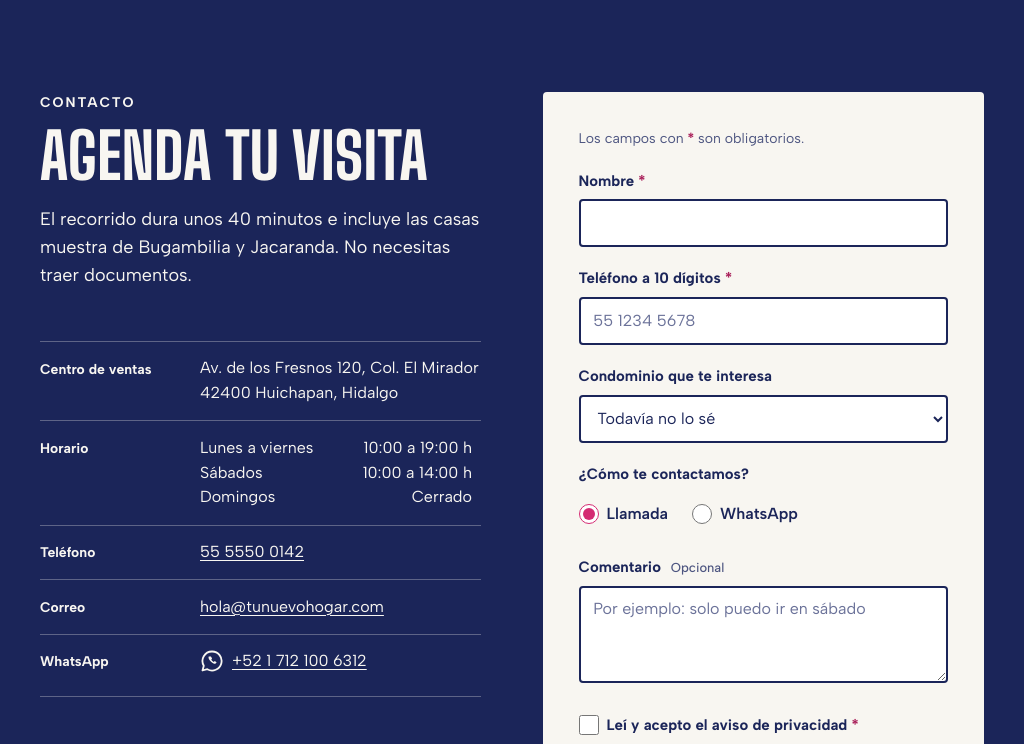
it: Contact: validation › requires at least three letters in the name
The image size is (1024, 744).
Click the checkbox labelled "Leí y acepto el aviso de privacidad *".
click(588, 726)  # box [578, 716, 598, 736]
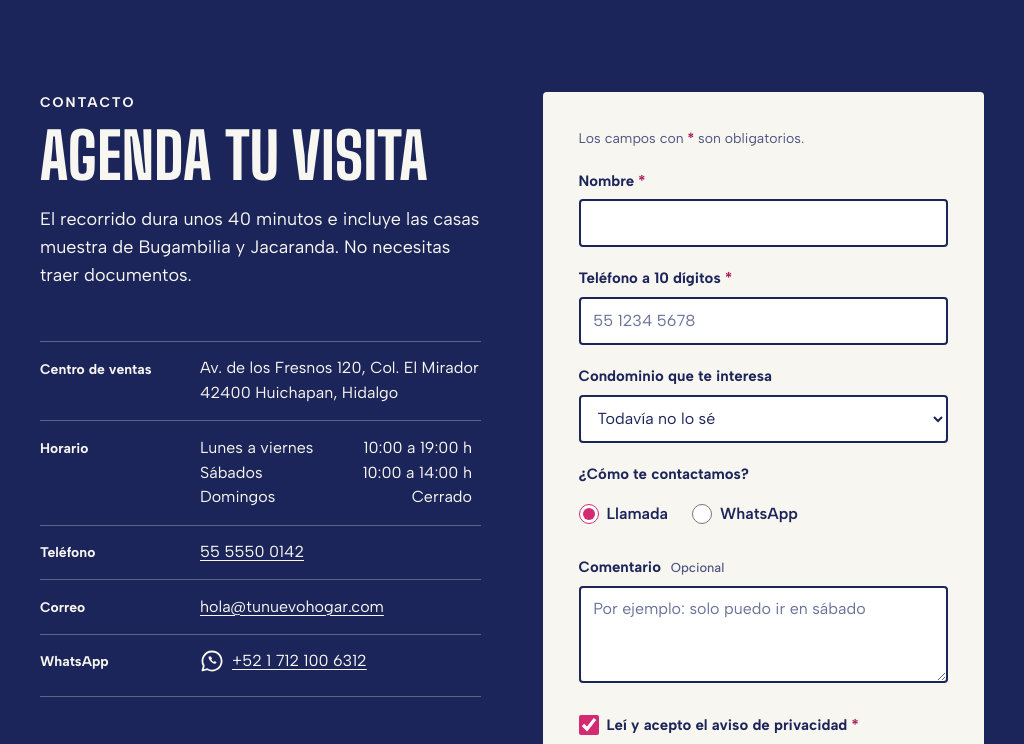
Type " Al " into the field labelled "Nombre *".
click(763, 223); type(" Al ")  # box [578, 199, 948, 247]
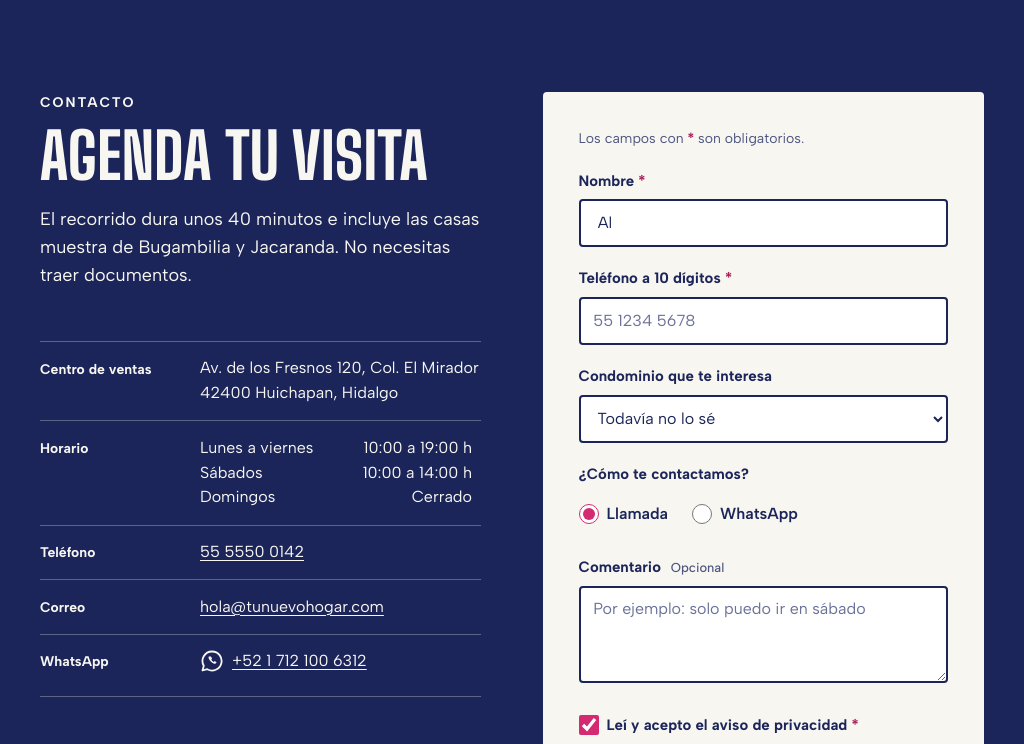
Leave the field labelled "Nombre *", box [578, 199, 948, 247]
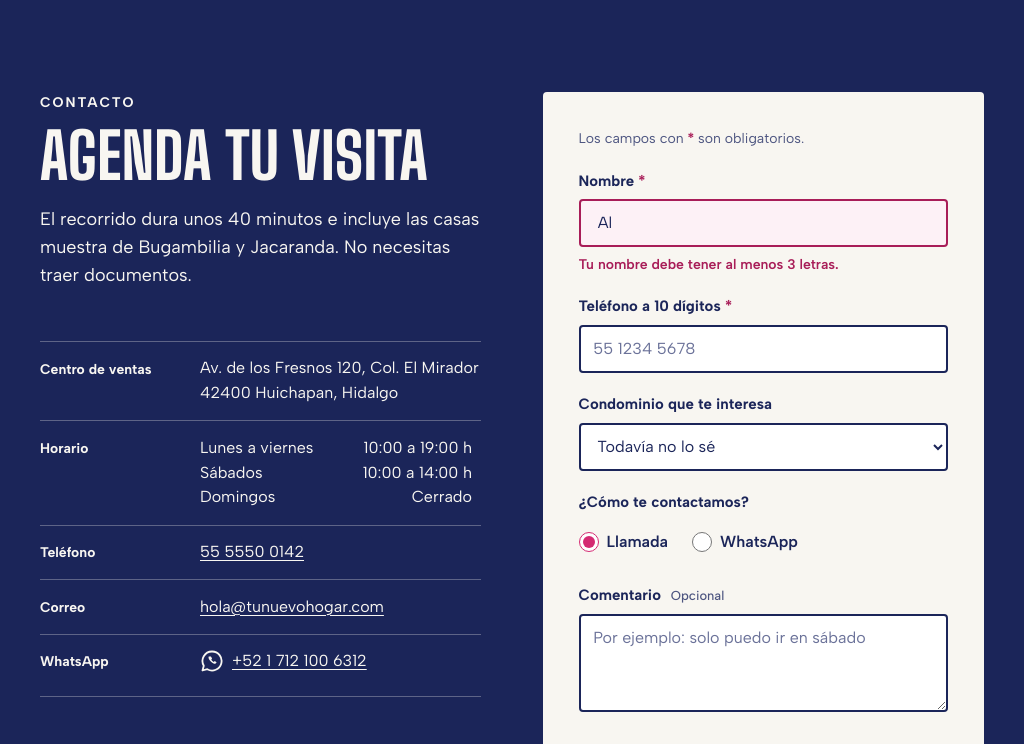
expect the text "Tu nombre debe tener al menos 3 letras." is shown: met, box [578, 256, 839, 273]
Replace the text in the field labelled "Nombre *" with "Ana" at {"x": 763, "y": 223}, box [578, 199, 948, 247]
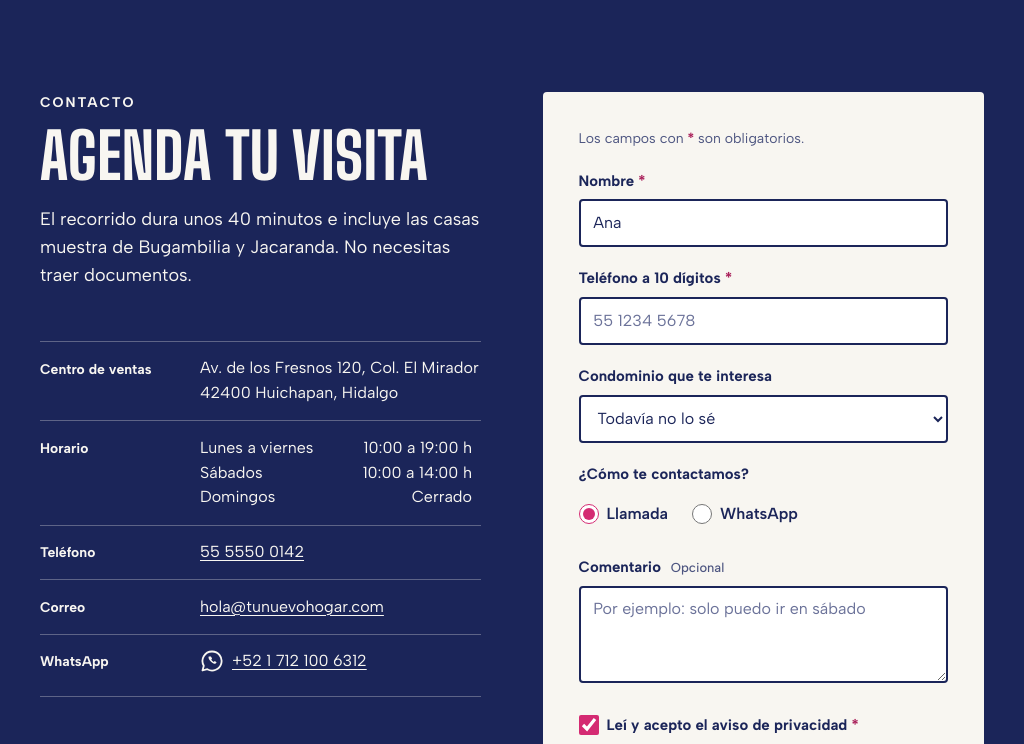
expect the text "Tu nombre debe tener al menos 3 letras." is gone: met
